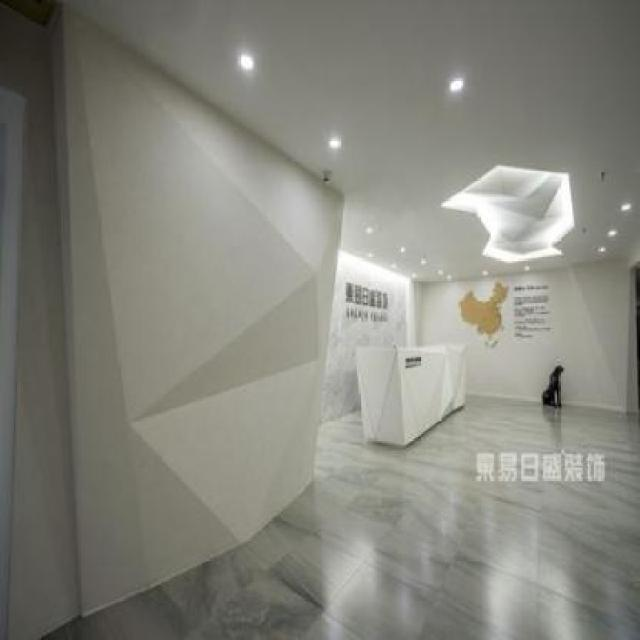frontdesk: (346, 332, 476, 454)
